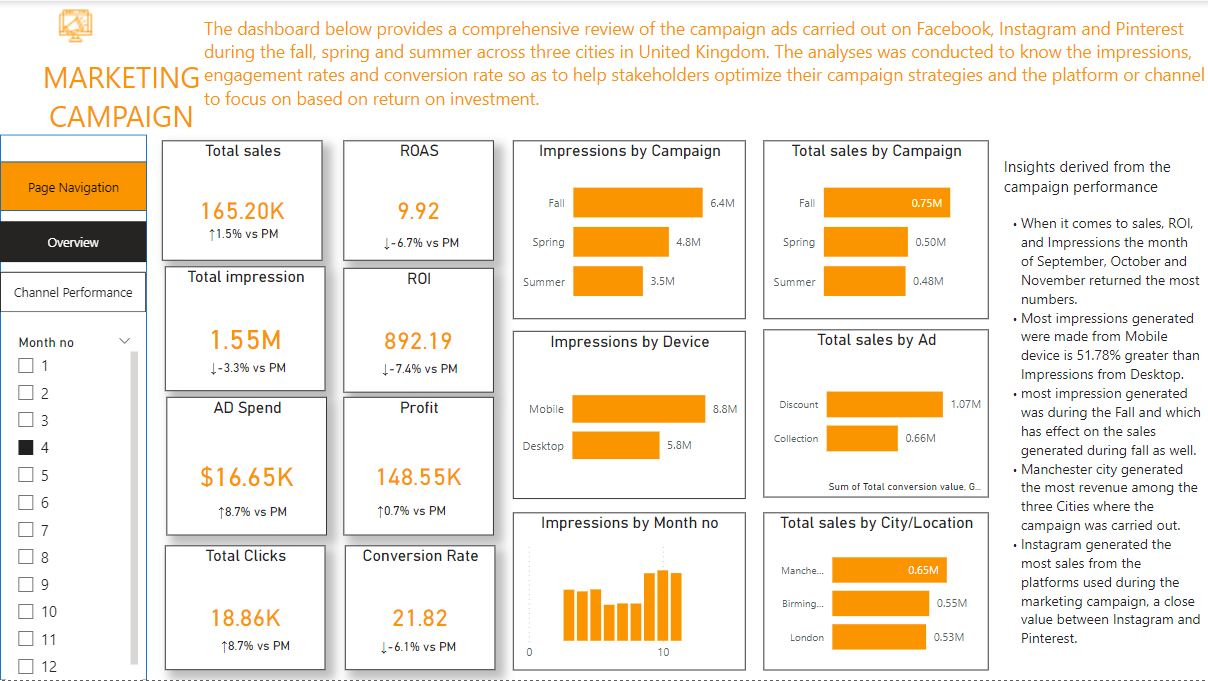

Layout of this report page (visuals, bound fields, positions):
{"tool":"powerbi","page":{"name":"Overview","canvas":[1280,720],"ordinal":0},"visuals":[{"type":"shape","box":[0,141.6,155.9,579],"z":1000},{"type":"card","title":"Total sales","fields":{"Values":["data.TOTAL SALES"]},"box":[171.8,147.9,170.2,127.2],"z":2000},{"type":"card","fields":{"Values":["Measures table.%VARIANCE vs PM"]},"box":[190.9,233.8,133.6,28.6],"z":3000},{"type":"slicer","fields":{"Values":["DATES.Month no"]},"box":[6.4,348.3,144.7,372.2],"z":4000},{"type":"card","title":"Total impression","fields":{"Values":["data.total impressions"]},"box":[175,281.5,170.2,132],"z":5000},{"type":"card","fields":{"Values":["Measures table.%impression vs PM"]},"box":[203.6,375.4,117.7,25.4],"z":6000},{"type":"card","title":"AD Spend","fields":{"Values":["data.AD spend"]},"box":[176.6,419.9,170.2,146.3],"z":7000},{"type":"card","fields":{"Values":["Measures table.%adspend vs PM"]},"box":[203.6,528.1,127.2,28.6],"z":8000},{"type":"card","title":"Total Clicks","fields":{"Values":["data.Total Clicks"]},"box":[175,577.4,170.2,132],"z":9000},{"type":"card","fields":{"Values":["Measures table.%adspend vs PM"]},"box":[216.3,671.2,108.2,27],"z":10000},{"type":"card","title":"ROAS","fields":{"Values":["data.ROAS"]},"box":[364.2,147.9,159.1,127.2],"z":11000},{"type":"card","title":"ROI","fields":{"Values":["data.ROI"]},"box":[364.2,283.1,159.1,132],"z":12000},{"type":"card","title":"Profit","fields":{"Values":["data.profits"]},"box":[364.2,419.9,159.1,146.3],"z":13000},{"type":"card","title":"Conversion Rate","fields":{"Values":["data.Conversion rate"]},"box":[365.8,577.4,159.1,132],"z":14000},{"type":"card","fields":{"Values":["Measures table.%ROAS vs PM"]},"box":[386.5,243.4,119.3,28.6],"z":15000},{"type":"card","fields":{"Values":["Measures table.%ROI vs PM"]},"box":[383.3,375.4,122.5,30.2],"z":16000},{"type":"card","fields":{"Values":["Measures table.%profits vs PM"]},"box":[383.3,526.5,105,30.2],"z":17000},{"type":"card","fields":{"Values":["Measures table.%conversion vs PM"]},"box":[383.3,671.2,119.3,28.6],"z":18000},{"type":"clusteredBarChart","title":"Impressions by Campaign","fields":{"Category":["data.Campaign"],"Y":["Sum(data.Impressions)"]},"box":[544,147.9,246.5,189.3],"z":19000},{"type":"barChart","title":"Total sales by Campaign","fields":{"Category":["data.Campaign"],"Y":["Sum(data.Total conversion value, GBP)"]},"box":[809.6,147.9,238.6,189.3],"z":20000},{"type":"barChart","title":"Impressions by Device","fields":{"Category":["data.Device"],"Y":["Sum(data.Impressions)"]},"box":[544,349.9,246.5,178.1],"z":21000},{"type":"barChart","title":"Total sales by Ad","fields":{"Y":["Sum(data.Total conversion value, GBP)"],"Category":["data.Ad"]},"box":[809.6,348.3,238.6,178.1],"z":22000},{"type":"columnChart","title":"Impressions by Month no","fields":{"Y":["Sum(data.Impressions)"],"Category":["DATES.Month no"]},"box":[544,542.4,246.5,167],"z":23000},{"type":"barChart","title":"Total sales by City/Location","fields":{"Y":["Sum(data.Total conversion value, GBP)"],"Category":["data.City/Location"]},"box":[809.6,542.4,238.6,167],"z":24000},{"type":"pageNavigator","box":[0,233.8,155.9,97],"z":25000},{"type":"shape","box":[0,170.2,155.9,52.5],"z":26000},{"type":"shape","box":[0,0,257.7,141.6],"z":27000},{"type":"image","box":[31.8,0,97,52.5],"z":28000},{"type":"shape","box":[216.3,0,1064.1,130.4],"z":29000},{"type":"textbox","box":[1059.3,159.1,221.1,561.5],"z":30000}]}

Visuals, with their boxes in screenshot pixels (x1, y1, x2, y2), scaled from the page's 1280x720 canvas onto the 1208x681 screenshot:
shape: Rect(0, 134, 147, 680)
"Total sales" card: Rect(162, 140, 323, 260)
card - Measures table.%VARIANCE vs PM: Rect(180, 221, 306, 248)
slicer - DATES.Month no: Rect(6, 329, 143, 680)
"Total impression" card: Rect(165, 266, 326, 391)
card - Measures table.%impression vs PM: Rect(192, 355, 303, 379)
"AD Spend" card: Rect(167, 397, 327, 536)
card - Measures table.%adspend vs PM: Rect(192, 499, 312, 527)
"Total Clicks" card: Rect(165, 546, 326, 671)
card - Measures table.%adspend vs PM: Rect(204, 635, 306, 660)
"ROAS" card: Rect(344, 140, 494, 260)
"ROI" card: Rect(344, 268, 494, 393)
"Profit" card: Rect(344, 397, 494, 536)
"Conversion Rate" card: Rect(345, 546, 495, 671)
card - Measures table.%ROAS vs PM: Rect(365, 230, 477, 257)
card - Measures table.%ROI vs PM: Rect(362, 355, 477, 384)
card - Measures table.%profits vs PM: Rect(362, 498, 461, 527)
card - Measures table.%conversion vs PM: Rect(362, 635, 474, 662)
"Impressions by Campaign" clusteredBarChart: Rect(513, 140, 746, 319)
"Total sales by Campaign" barChart: Rect(764, 140, 989, 319)
"Impressions by Device" barChart: Rect(513, 331, 746, 499)
"Total sales by Ad" barChart: Rect(764, 329, 989, 498)
"Impressions by Month no" columnChart: Rect(513, 513, 746, 671)
"Total sales by City/Location" barChart: Rect(764, 513, 989, 671)
pageNavigator: Rect(0, 221, 147, 313)
shape: Rect(0, 161, 147, 211)
shape: Rect(0, 0, 243, 134)
image: Rect(30, 0, 122, 50)
shape: Rect(204, 0, 1207, 123)
textbox: Rect(1000, 150, 1207, 680)
